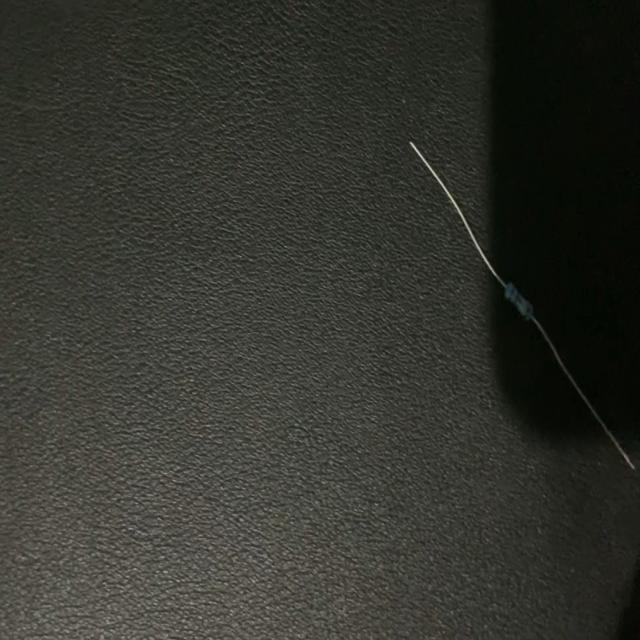resistor: (412, 142, 636, 472)
